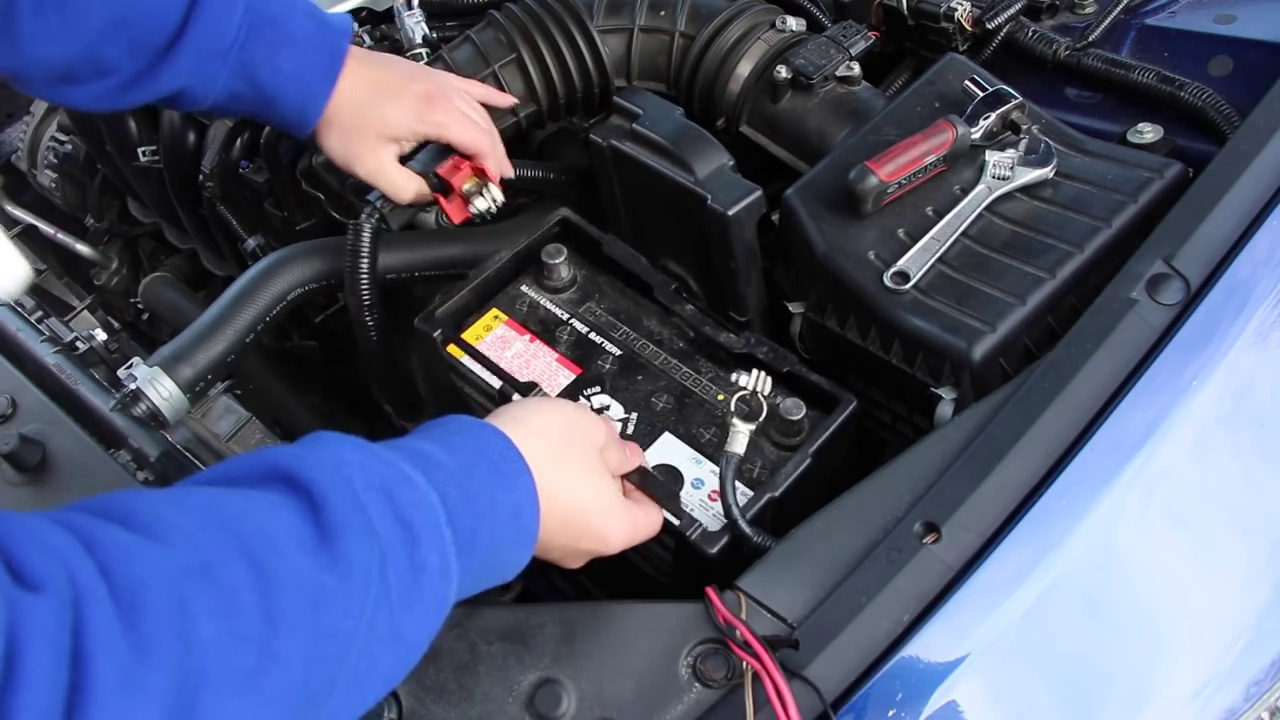battery: (422, 183, 858, 558)
neg_disconnected: (708, 353, 836, 465)
pos_disconnected: (426, 149, 596, 314)
